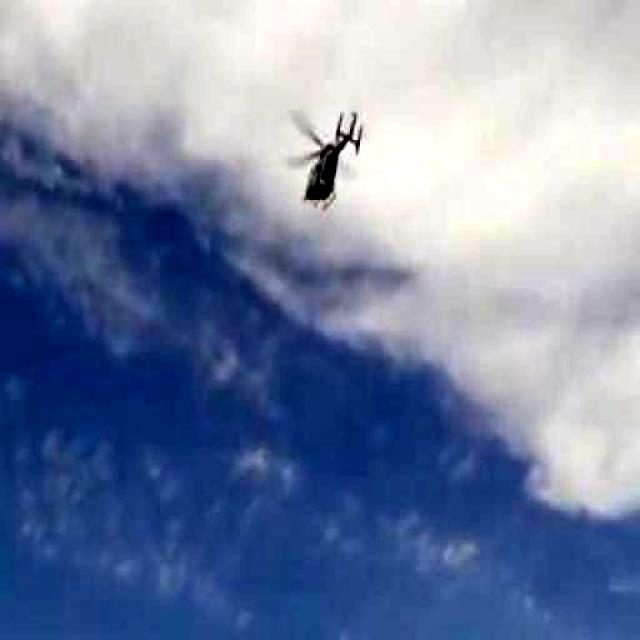drone: (250, 84, 382, 240)
